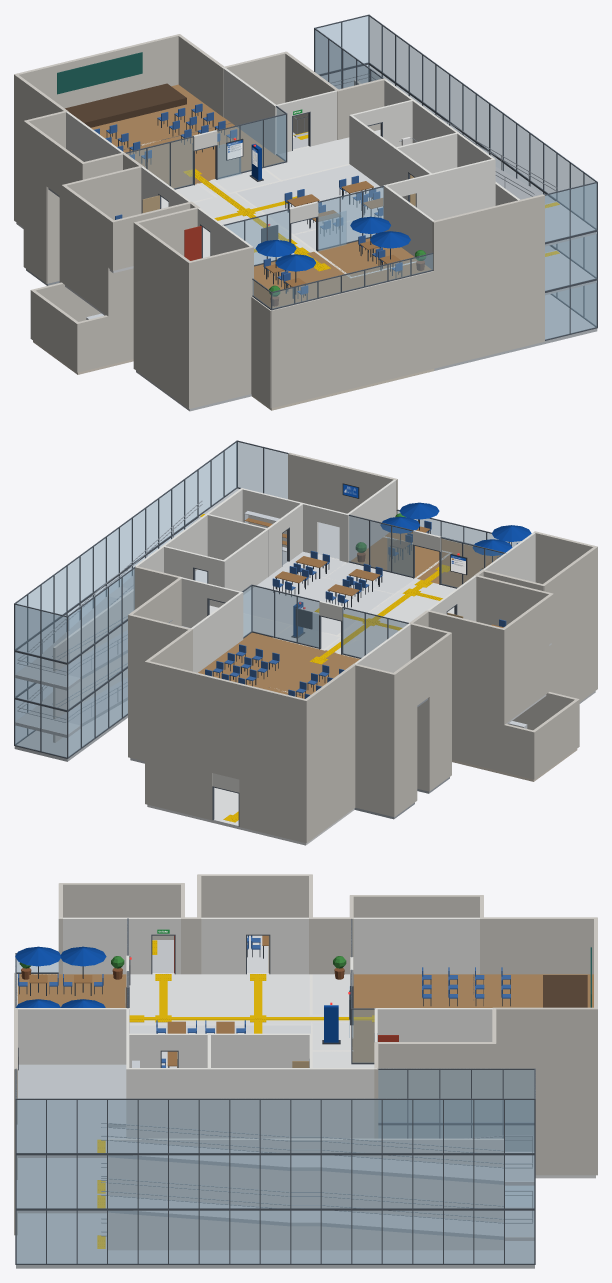
Rendered from modelo.glb.
3 views of the same model, one above another, from view 1: azimuth 30°, elevation 25°; view 2: azimuth 150°, elevation 25°; view 3: azimuth 270°, elevation 25° (orthographic). The views are drawn at different scales.
Parts seen in each view (by area): view 1: PCTP03PAREDE_GERAL, PCTP01PAREDE_GERAL, PCTP02PAREDE_GERAL, PCTP03PISO_LAJE, PCTP03MOBILIA_GERAL, PCTP03PORTA_GERAL, PCTP01PISO_LAJE, PCTP02RAMPA_1, PCTP02PISO_LAJE, PCTP03PISOTATIL_DIRECIONAL; view 2: PCTP03PAREDE_GERAL, PCTP02PAREDE_GERAL, PCTP01PAREDE_GERAL, PCTP03PISO_LAJE, PCTP03MOBILIA_GERAL, PCTP02RAMPA_1, PCTP01RAMPA_1, PCTP01PISO_LAJE, PCTP03PORTA_GERAL, PCTP03PISOTATIL_DIRECIONAL, PCTP01PORTA_GERAL; view 3: PCTP03PAREDE_GERAL, PCTP02PAREDE_GERAL, PCTP01PAREDE_GERAL, PCTP03PISO_LAJE, PCTP01RAMPA_1, PCTP02RAMPA_1, PCTP01PISO_LAJE, PCTP03MOBILIA_GERAL, PCTP02PISO_LAJE, PCTP03PORTA_GERAL, PCTP03PISOTATIL_DIRECIONAL, PCTP03PISOTATIL_ALERTA (+1 smaller).
Boxes of the visible parts, box(x1,y1,x2,y2) form: PCTP03PAREDE_GERAL: box(14, 14, 597, 311); PCTP01PAREDE_GERAL: box(14, 172, 597, 408); PCTP02PAREDE_GERAL: box(14, 64, 597, 360); PCTP03PISO_LAJE: box(48, 84, 596, 308); PCTP03MOBILIA_GERAL: box(57, 52, 426, 306); PCTP03PORTA_GERAL: box(142, 97, 418, 260); PCTP01PISO_LAJE: box(16, 222, 597, 411); PCTP02RAMPA_1: box(330, 73, 557, 205); PCTP02PISO_LAJE: box(65, 250, 596, 315); PCTP03PISOTATIL_DIRECIONAL: box(191, 172, 324, 267); PCTP03PAREDE_GERAL: box(14, 440, 597, 748); PCTP02PAREDE_GERAL: box(14, 517, 597, 795); PCTP01PAREDE_GERAL: box(14, 642, 597, 843); PCTP03PISO_LAJE: box(182, 488, 551, 706); PCTP03MOBILIA_GERAL: box(205, 502, 531, 698); PCTP02RAMPA_1: box(15, 500, 202, 695); PCTP01RAMPA_1: box(15, 653, 127, 742); PCTP01PISO_LAJE: box(14, 691, 595, 845); PCTP03PORTA_GERAL: box(193, 506, 497, 654); PCTP03PISOTATIL_DIRECIONAL: box(317, 568, 446, 660); PCTP01PORTA_GERAL: box(212, 773, 239, 826); PCTP03PAREDE_GERAL: box(14, 874, 597, 1154); PCTP02PAREDE_GERAL: box(14, 972, 597, 1209); PCTP01PAREDE_GERAL: box(14, 1120, 597, 1264); PCTP03PISO_LAJE: box(16, 935, 593, 1157); PCTP01RAMPA_1: box(101, 1178, 534, 1250); PCTP02RAMPA_1: box(101, 1123, 534, 1194); PCTP01PISO_LAJE: box(16, 1175, 595, 1268); PCTP03MOBILIA_GERAL: box(15, 935, 591, 1067); PCTP02PISO_LAJE: box(16, 1127, 126, 1213); PCTP03PORTA_GERAL: box(125, 917, 398, 1067); PCTP03PISOTATIL_DIRECIONAL: box(129, 977, 374, 1033); PCTP03PISOTATIL_ALERTA: box(97, 940, 374, 1152).
Size of the model in its own units: 28.13 by 9.2 by 28.7.
Materials: 52 (13 with a texture image).
